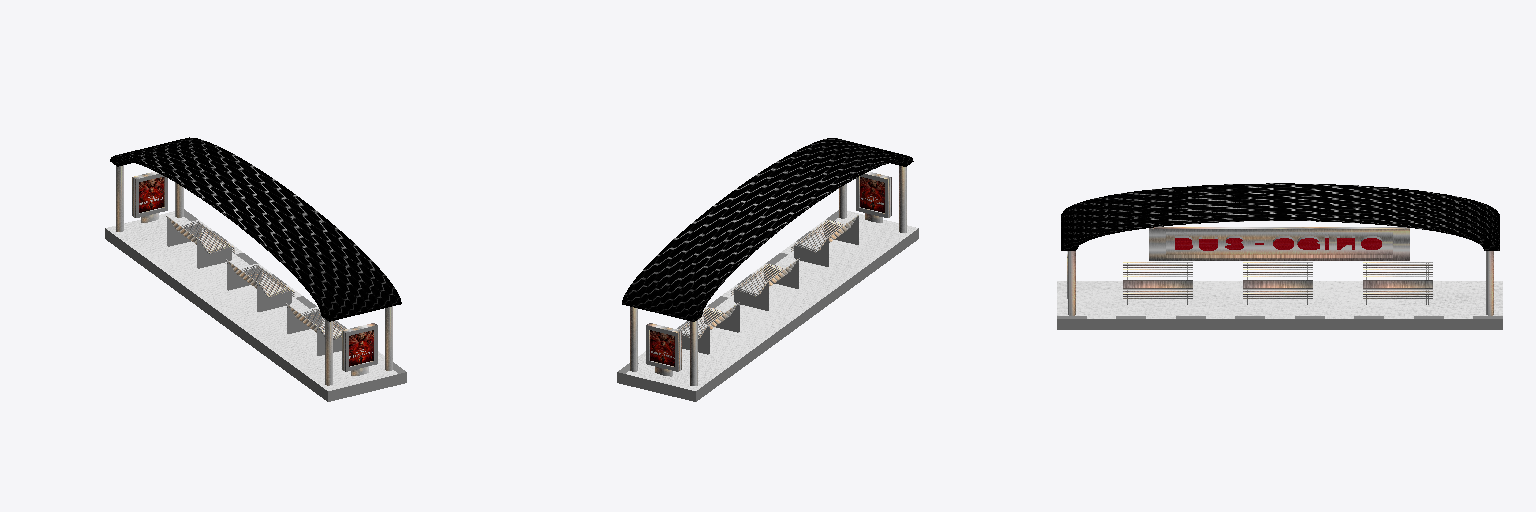
3 views of the same model, side by side, from view 1: azimuth 30°, elevation 25°; view 2: azimuth 150°, elevation 25°; view 3: azimuth 270°, elevation 25° (orthographic).
Visible parts, largest first — view 1: Box005, Cylinder031, Cylinder030; view 2: Box005, Cylinder027, Cylinder030; view 3: Box005, Cylinder027, Cylinder030, Cylinder031.
Part boxes in pixels (x1,y1,x2,y2): Box005: (105, 137, 406, 401); Cylinder031: (166, 216, 234, 253); Cylinder030: (226, 259, 294, 297); Box005: (617, 138, 918, 401); Cylinder027: (791, 215, 858, 252); Cylinder030: (731, 258, 799, 296); Box005: (1057, 183, 1502, 329); Cylinder027: (1123, 262, 1192, 298); Cylinder030: (1243, 262, 1312, 298); Cylinder031: (1363, 262, 1432, 298).
Size of the model in its own units: 20.21 by 26.93 by 98.92.
Materials: 12 (5 with a texture image).